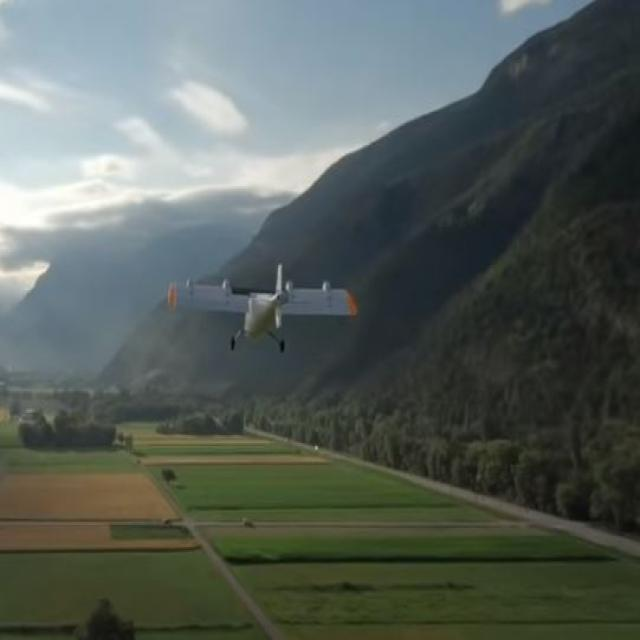iha: (160, 289, 354, 325)
